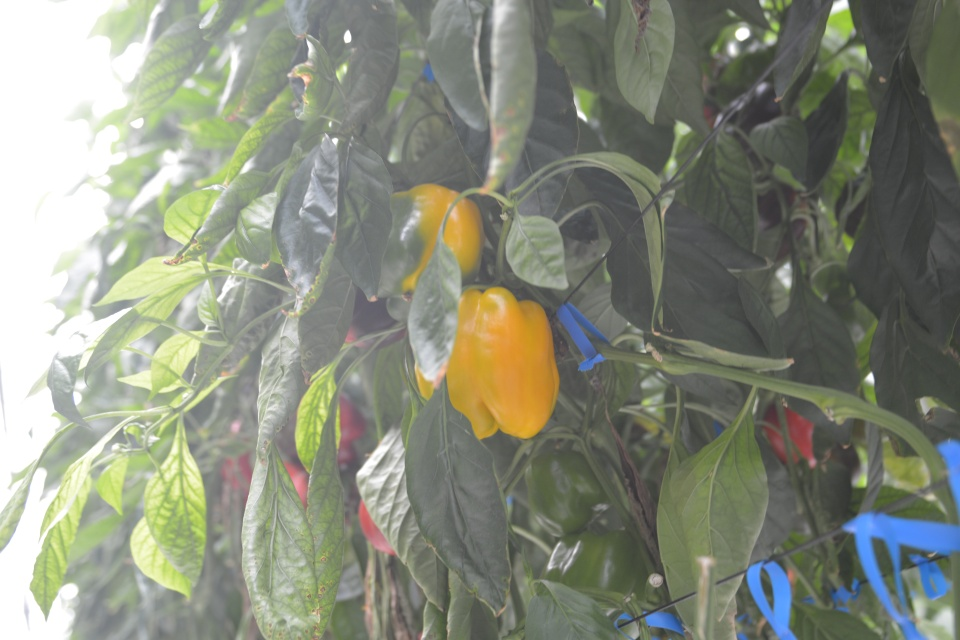fruit: (414, 285, 561, 440), (377, 180, 483, 320), (536, 528, 648, 624), (524, 450, 608, 535), (763, 401, 832, 468), (340, 286, 408, 352)
